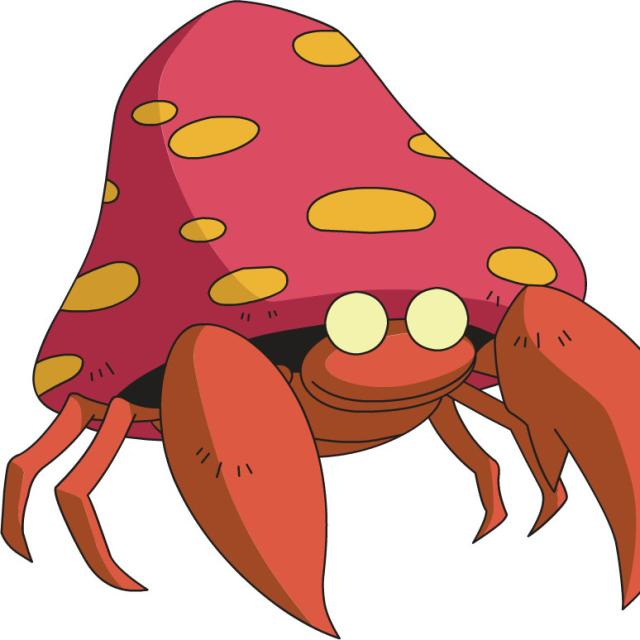Parasect: (48, 6, 623, 554)
